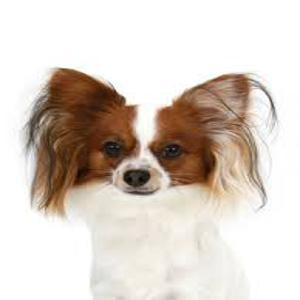yell: (24, 68, 270, 300)
